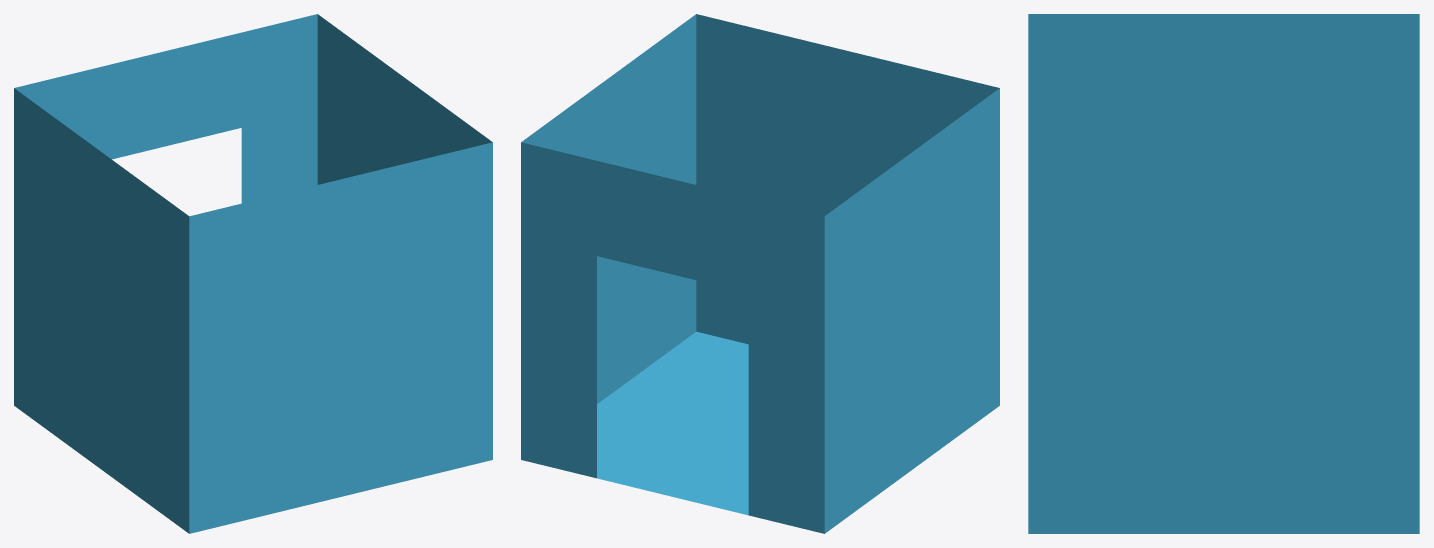
The model's file is map.glb.
The picture shows the model from 3 angles, left to right: view 1: azimuth 30°, elevation 25°; view 2: azimuth 150°, elevation 25°; view 3: azimuth 270°, elevation 25°; orthographic projection. The views are drawn at different scales.
Visible parts, largest first — view 1: Plane; view 2: Plane; view 3: Plane.
Part boxes in pixels (x1,y1,x2,y2): Plane: (14,14,492,533); Plane: (521,14,999,533); Plane: (1028,14,1419,533).
Bounding box in the file's own units: 4 × 4 × 4.
